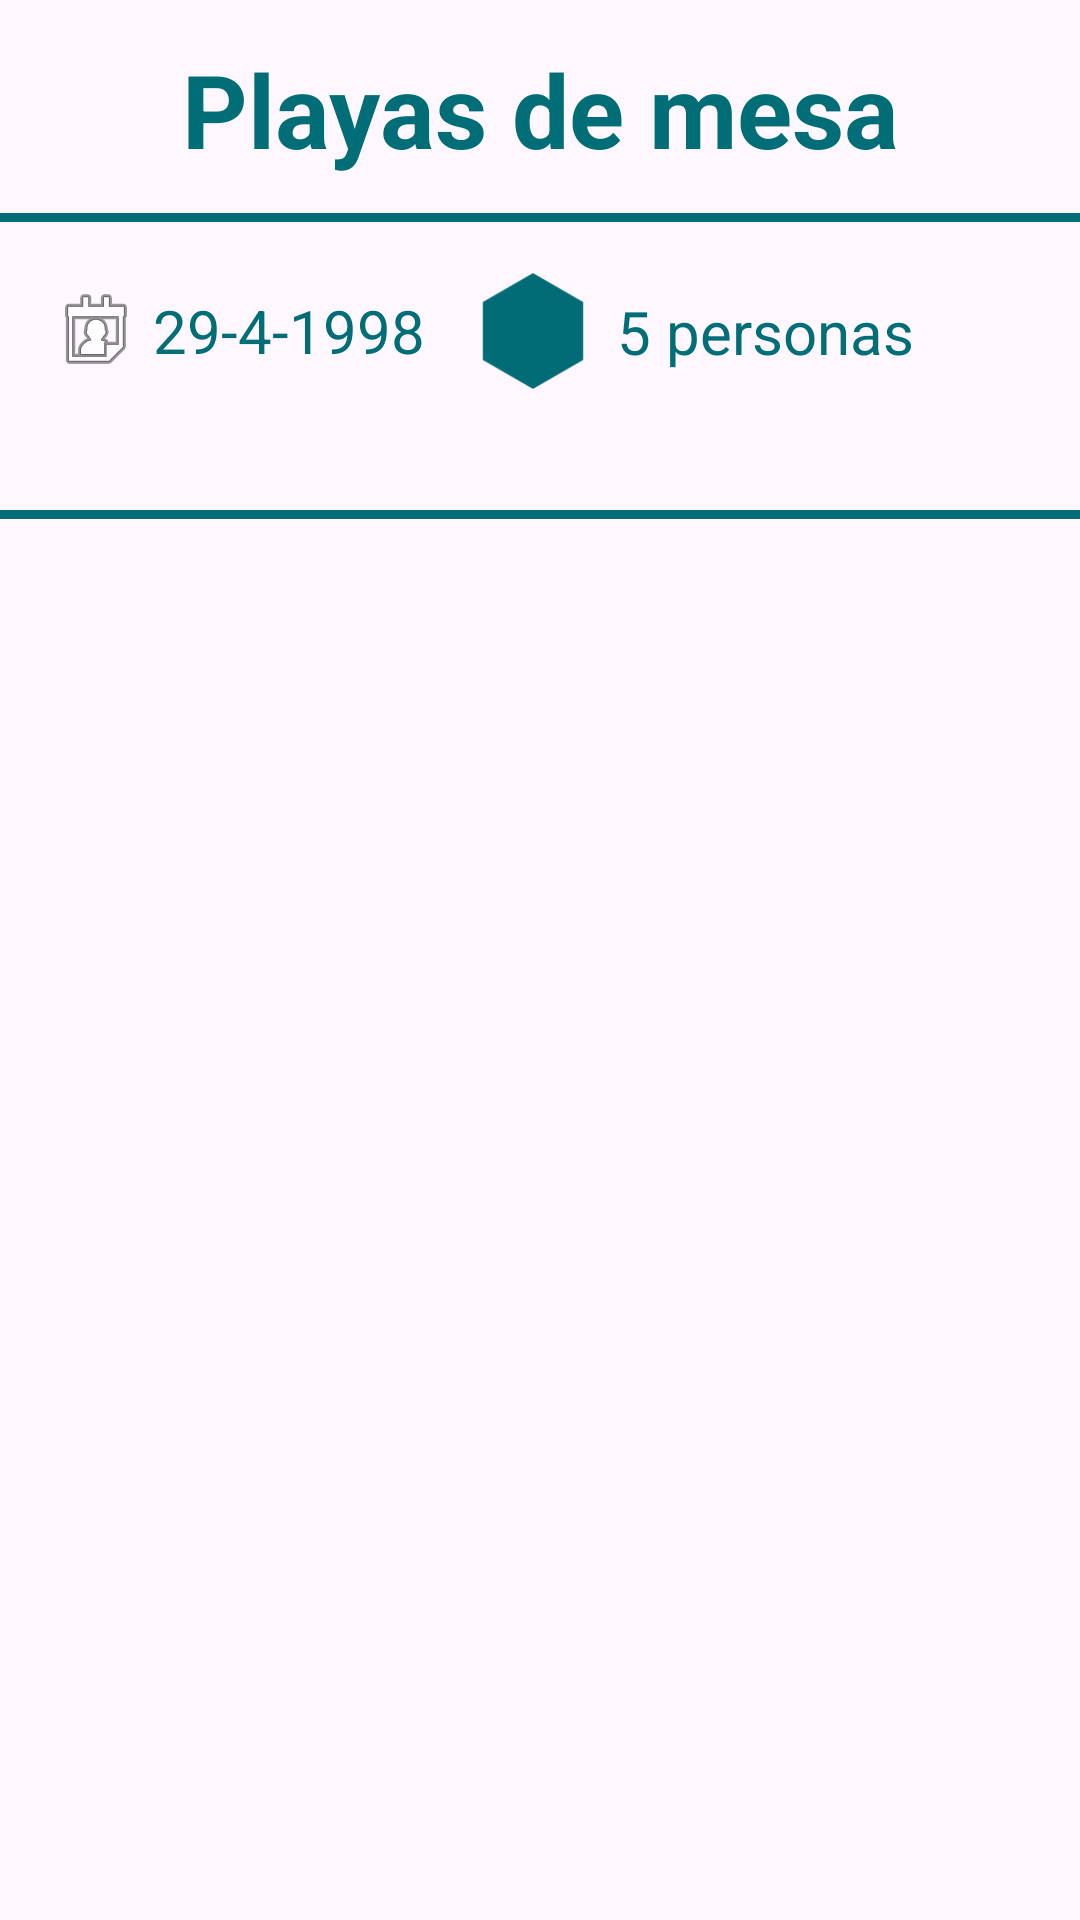

Icon bounding boxes for this 1080x1920 phone screenshot, format (left=x1, top=y1, right=x2, bottom=y2):
calendar: (left=65, top=294, right=127, bottom=364)
